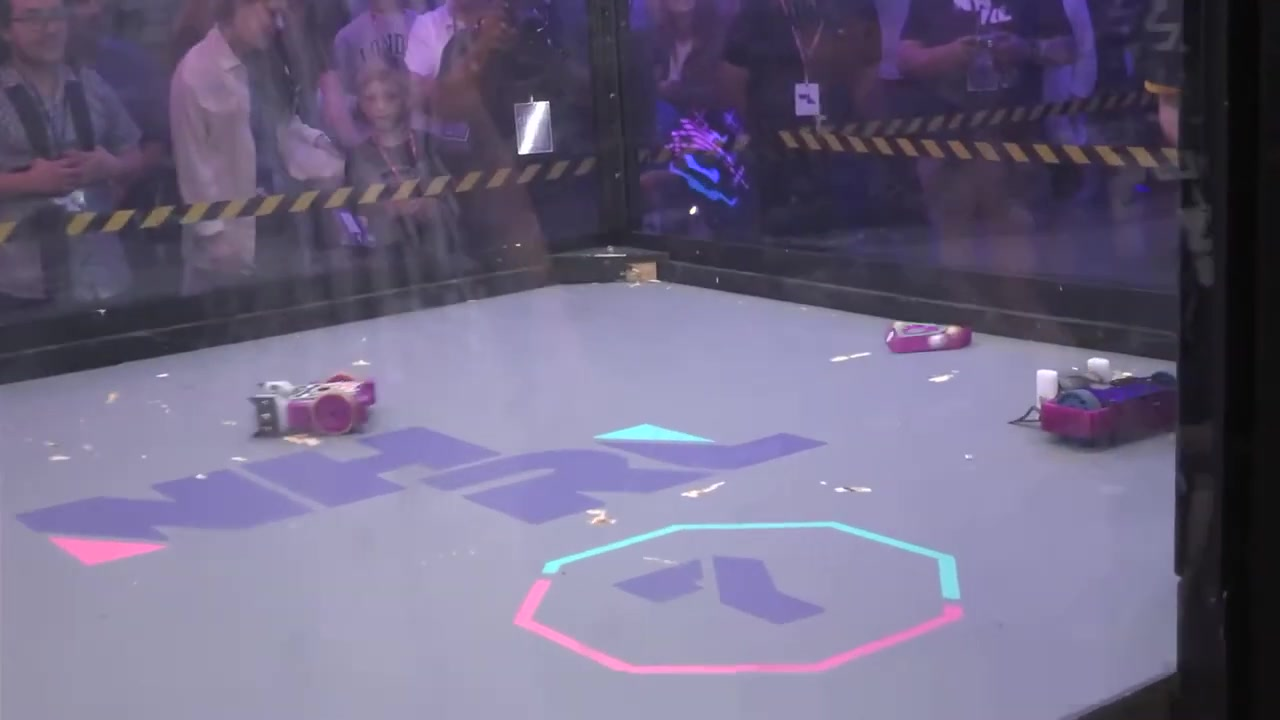combatbot: (1032, 355, 1183, 448), (248, 371, 379, 443)
minibot: (884, 320, 975, 357)
